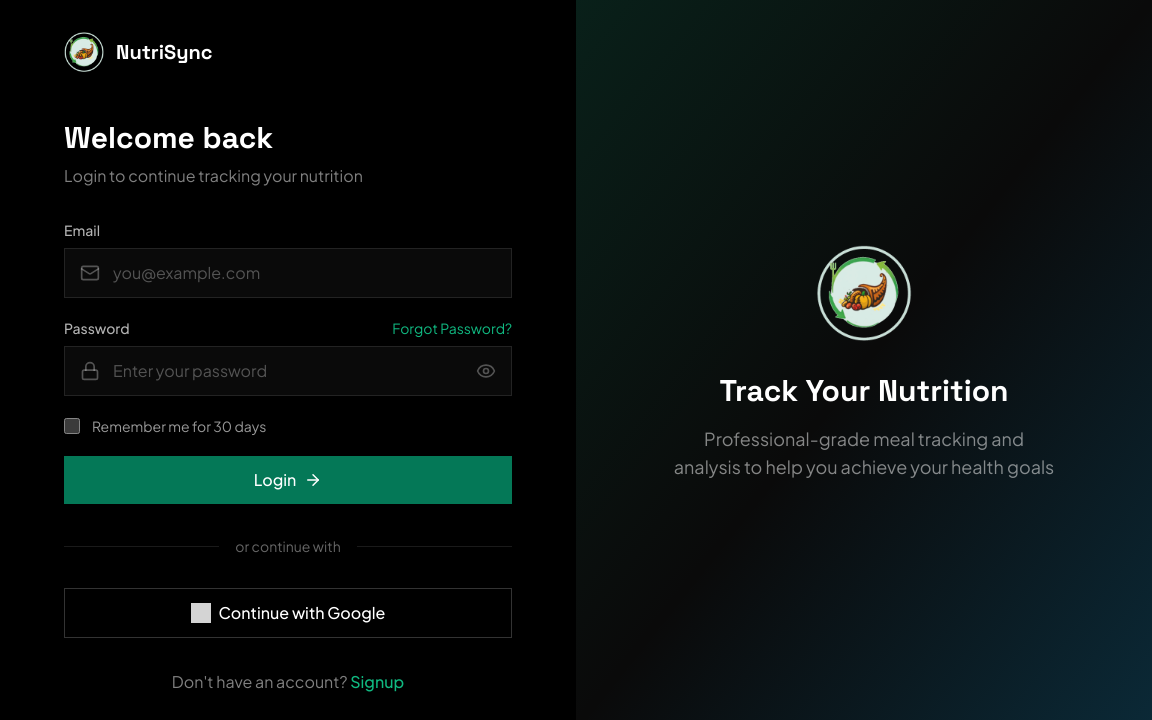
Test: Login Page › displays error message on failed login
Step 1. Type "wrong@example.com" into the field with placeholder "you@example.com" → [288, 273], box [64, 248, 512, 298]
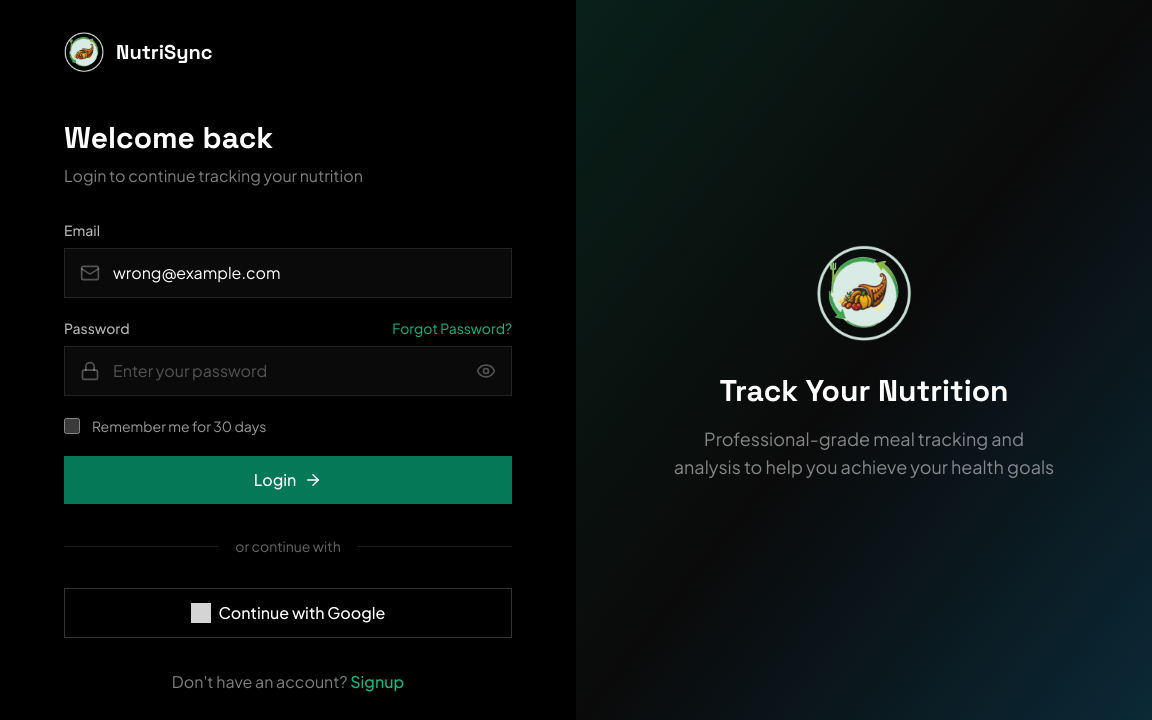
Step 2. Type "wrongpass" into the password field with placeholder "Enter your password" → [288, 371], box [64, 346, 512, 396]
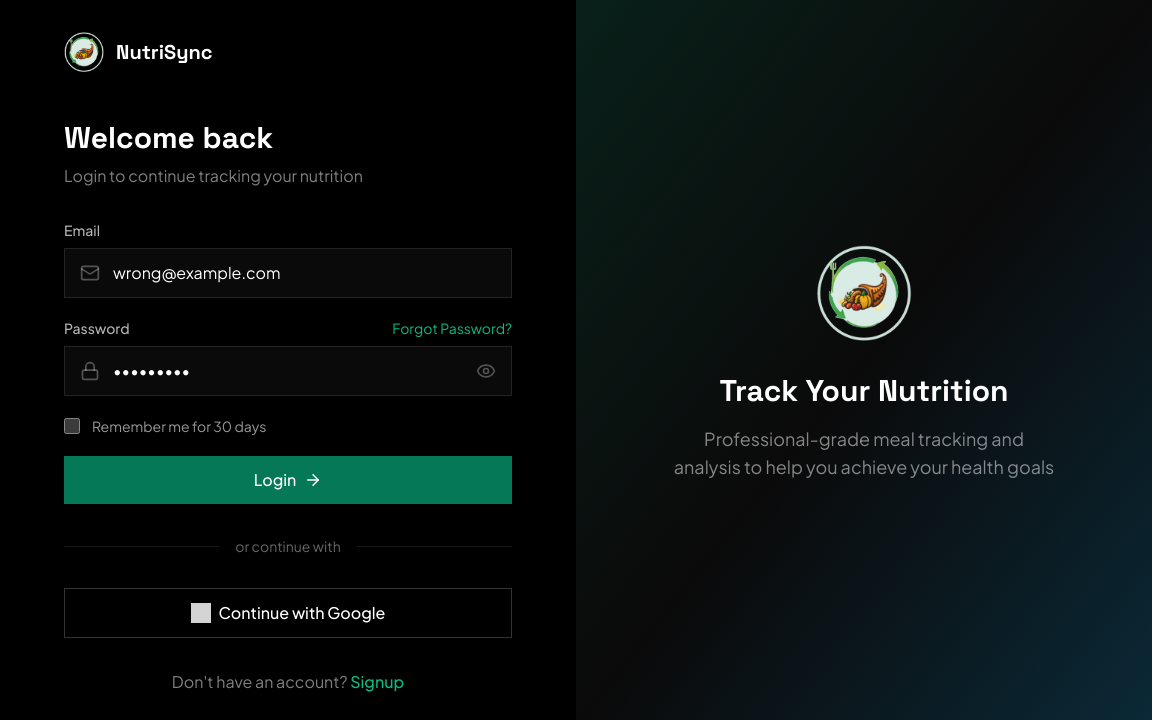
Step 3. Click the button "Login" → [288, 480], box [64, 456, 512, 504]
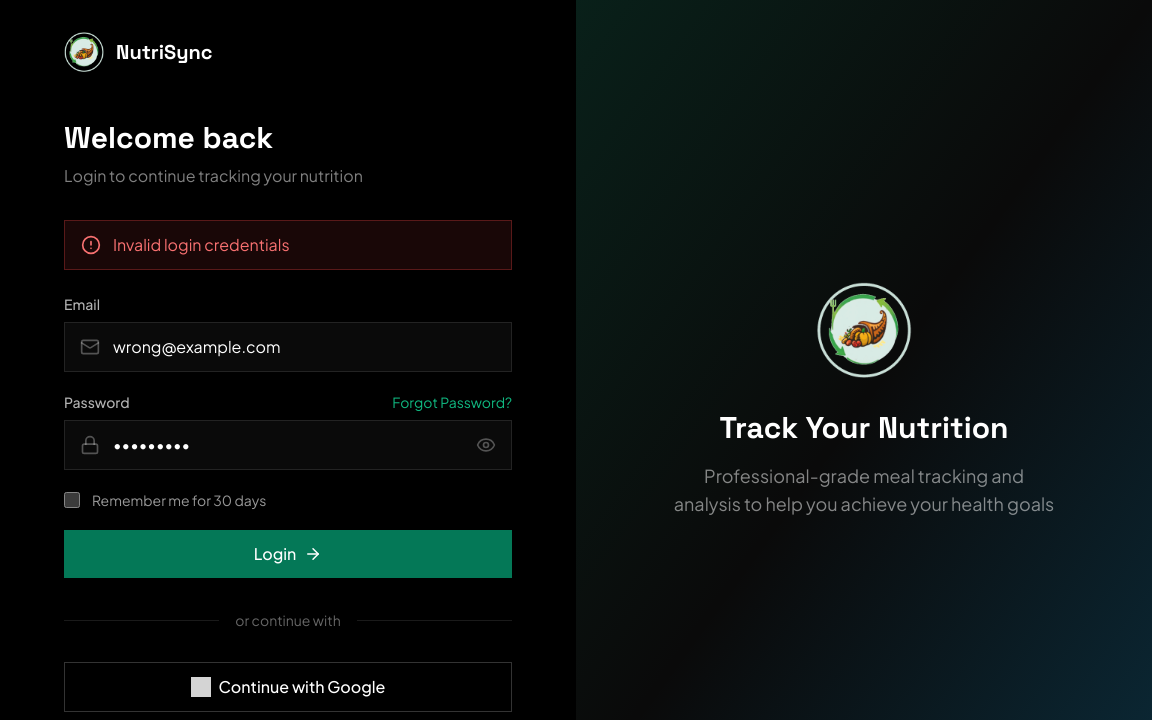
Now the text "Invalid login credentials" is shown, box [113, 234, 290, 255]
